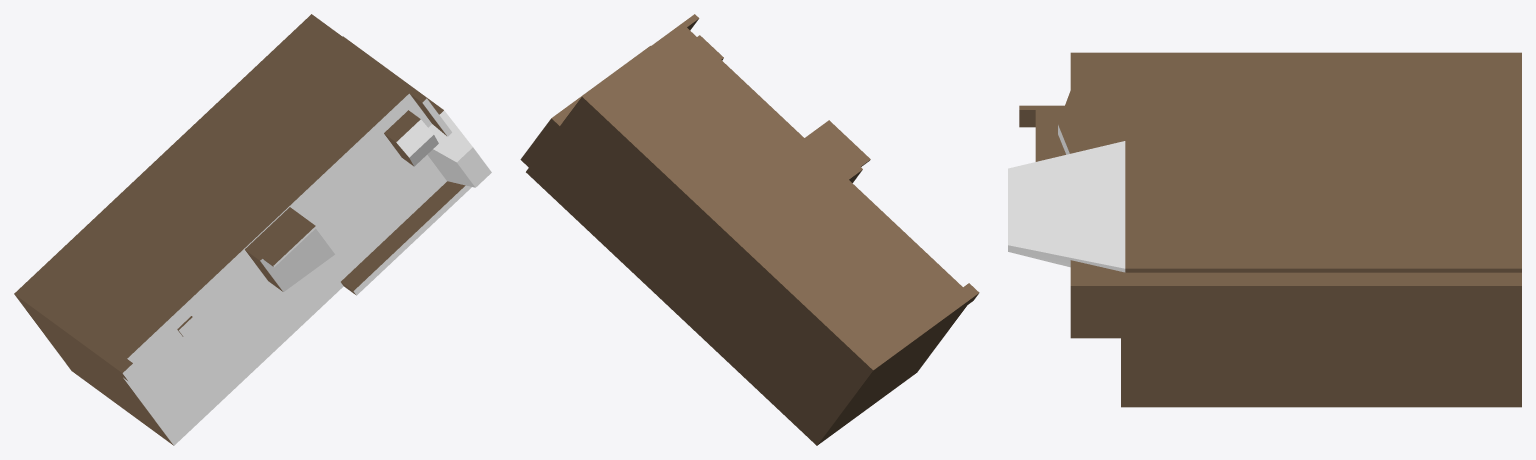
The picture shows the model from 3 angles, left to right: view 1: azimuth 30°, elevation 25°; view 2: azimuth 150°, elevation 25°; view 3: azimuth 270°, elevation 25°; orthographic projection. The views are drawn at different scales.
Parts seen in each view (by area): view 1: City_PC-08618; view 2: City_PC-08618; view 3: City_PC-08618.
Boxes of the visible parts, x1,y1,x2,y2 form: City_PC-08618: (14,14,491,445); City_PC-08618: (520,14,979,445); City_PC-08618: (1008,52,1521,407).
Size of the model in its own units: 2754 by 2178 by 1736.
